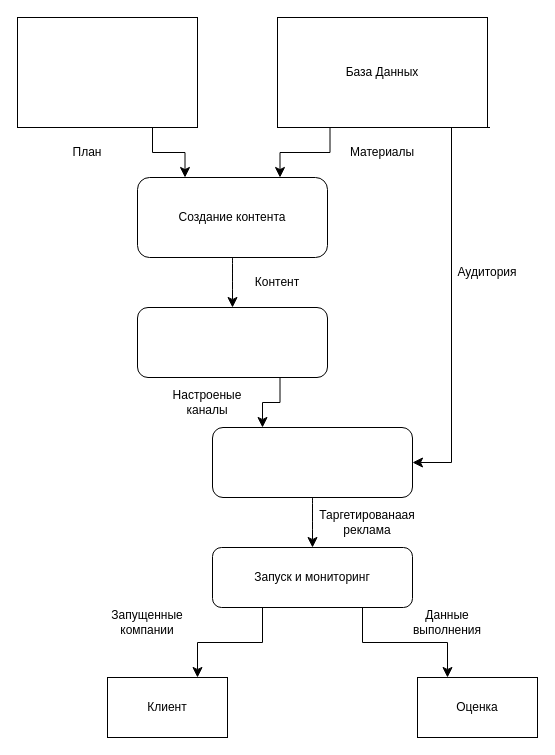
Image size: 555x755. Some labels were removed from this diagram. Each missing label, with the centre of its shape:
Настройка каналов: pixel 232 342
Планирование: pixel 107 72
Сегментация аудитории: pixel 312 462
